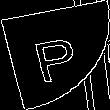P_N: (27, 26, 83, 84)
